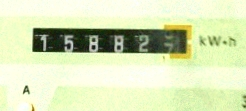1: (38, 31, 48, 50)
2: (137, 31, 150, 52)
5: (60, 32, 75, 51)
7: (161, 39, 174, 51)
8: (111, 31, 125, 52), (87, 31, 100, 52)
screen: (26, 18, 196, 62)
